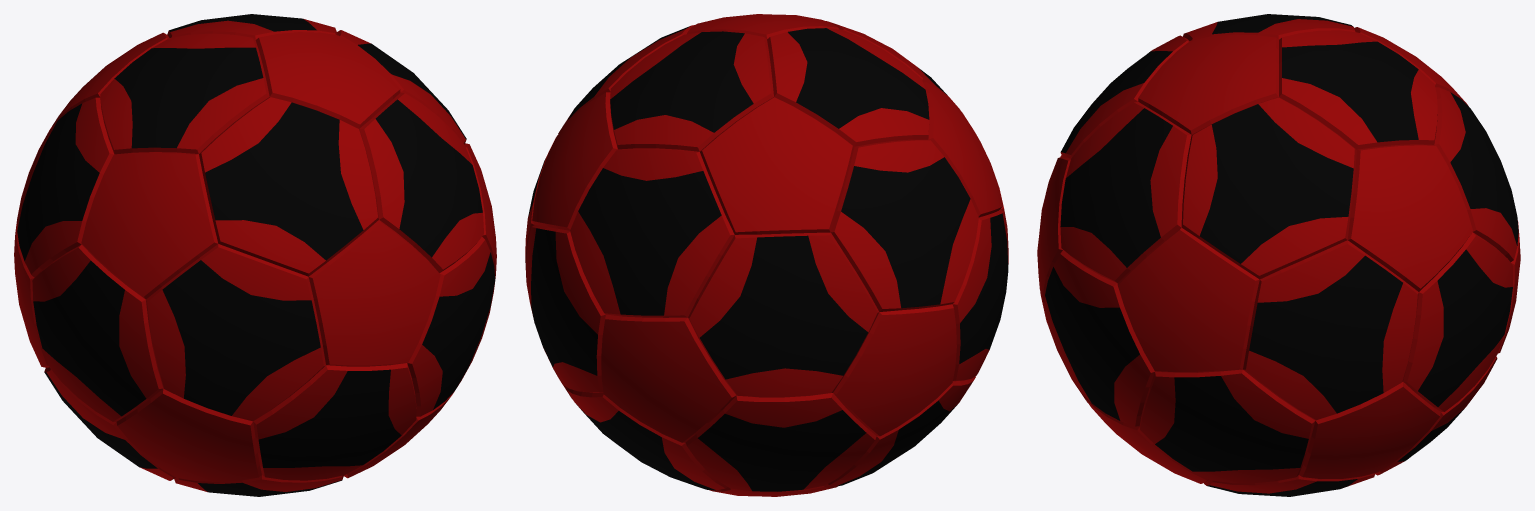
The model's file is Bola ver 1.0.fbx.
The picture shows the model from 3 angles, left to right: view 1: azimuth 30°, elevation 25°; view 2: azimuth 150°, elevation 25°; view 3: azimuth 270°, elevation 25°; orthographic projection.
Parts seen in each view (by area): view 1: pSolid3; view 2: pSolid3; view 3: pSolid3.
Boxes of the visible parts, x1,y1,x2,y2 form: pSolid3: [14, 14, 496, 496]; pSolid3: [525, 14, 1008, 496]; pSolid3: [1037, 14, 1520, 496].
Bounding box in the file's own units: 29.9 × 29.86 × 29.9.
